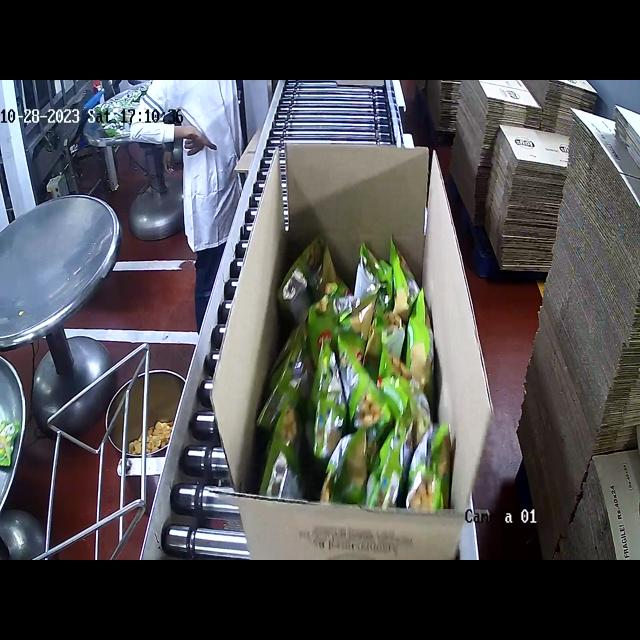yogurt: (255, 232, 453, 512)
